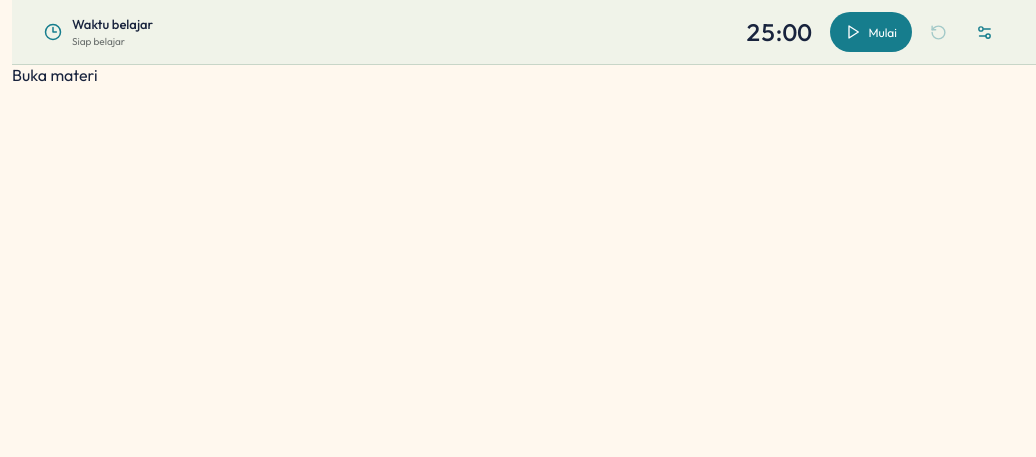
global study countdown › uses the deadline after a background-tab time jump and announces completion once
The image size is (1036, 457).
Click the button named "Atur timer belajar".
click(984, 32)  # box left=964, top=12, right=1004, bottom=52
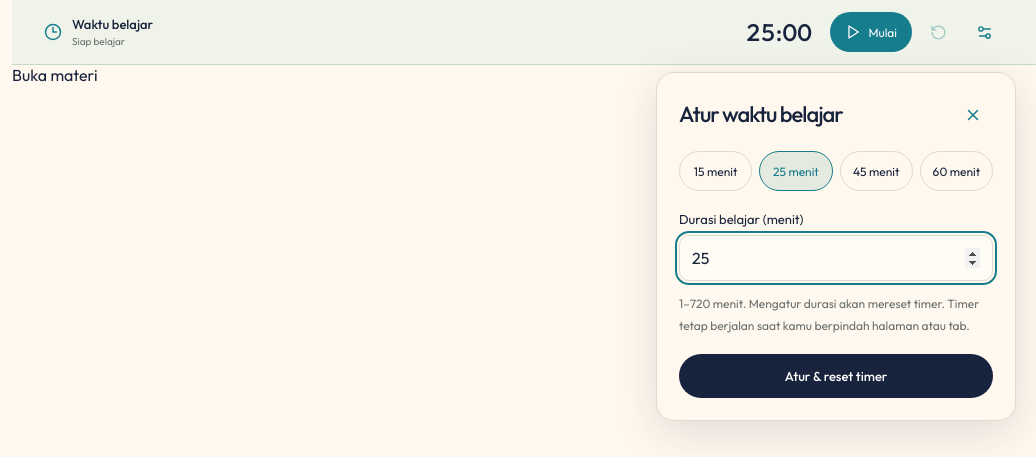
Replace the text in the number field labelled "Durasi belajar (menit)" with "1" at (836, 258), box left=679, top=235, right=993, bottom=281
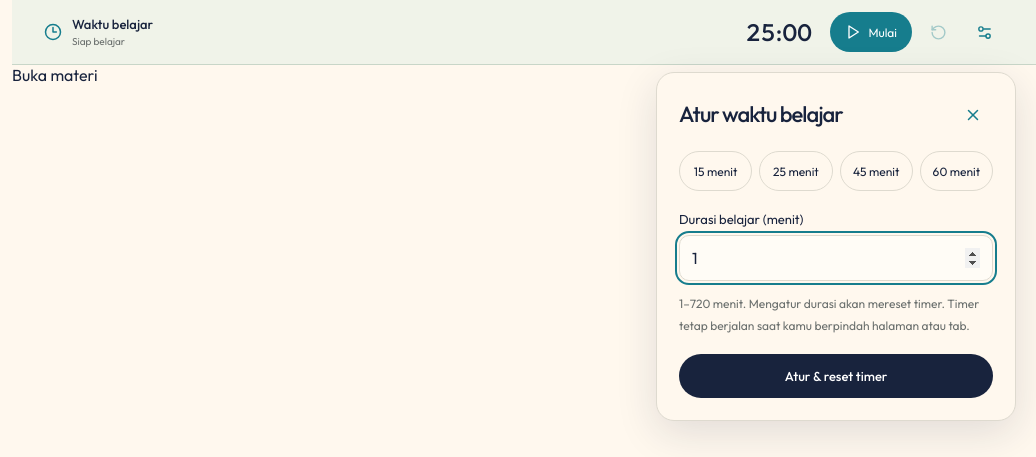
Click the button "Atur & reset timer".
click(836, 376)  # box left=679, top=354, right=993, bottom=398
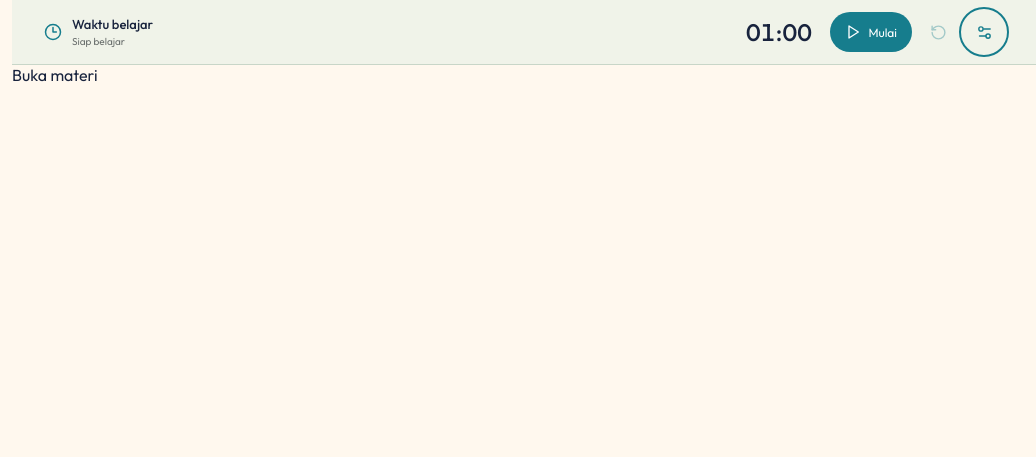
Click the button with aria-label "Mulai timer belajar".
click(871, 32)  # box left=830, top=12, right=912, bottom=52
Wait 30000 ms
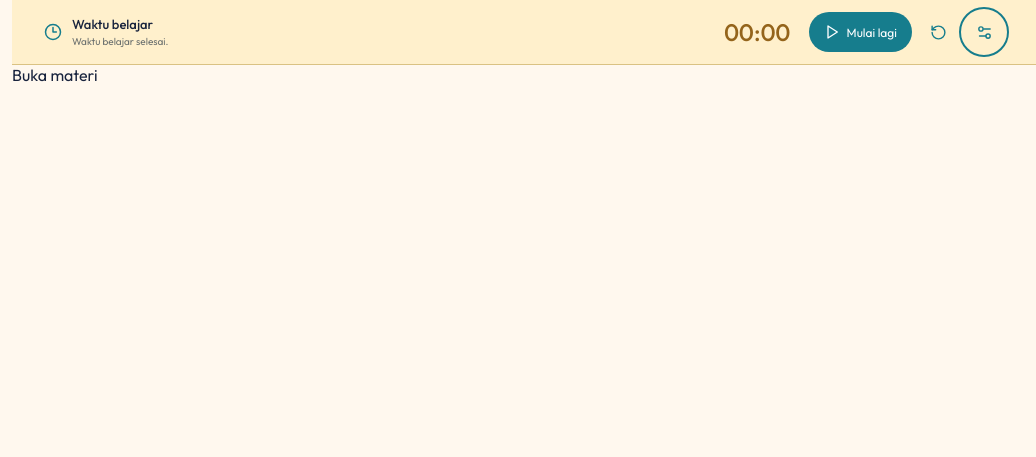
Expected: the text "Waktu belajar selesai." is shown once, left=72, top=35, right=168, bottom=48
Expected: the text "00:00" is shown, left=724, top=18, right=791, bottom=46
Expected: the message reads "Waktu belajar selesai.", left=72, top=35, right=168, bottom=48
